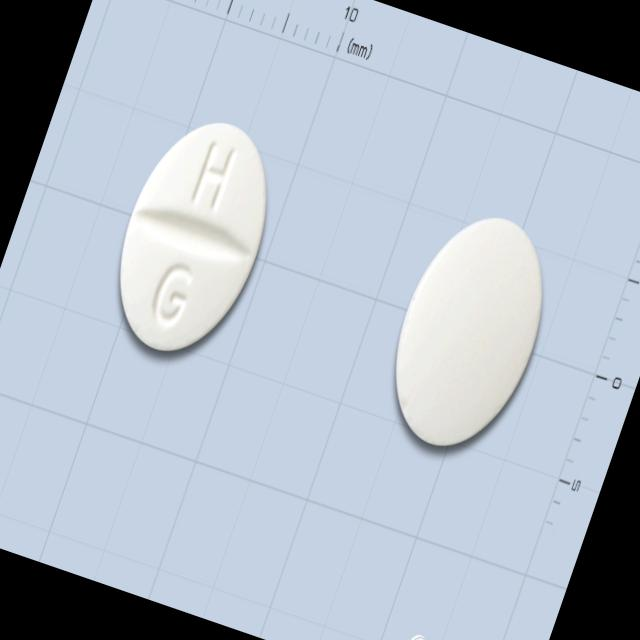Cipoxcin: (84, 94, 302, 384)
